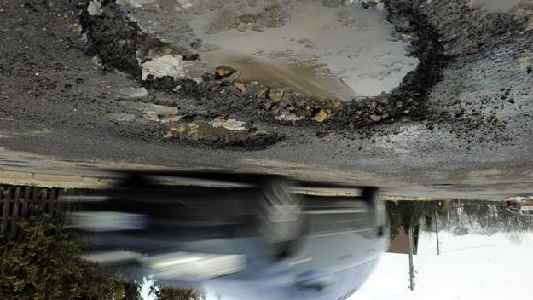pothole: (68, 0, 451, 136), (110, 112, 285, 154)
